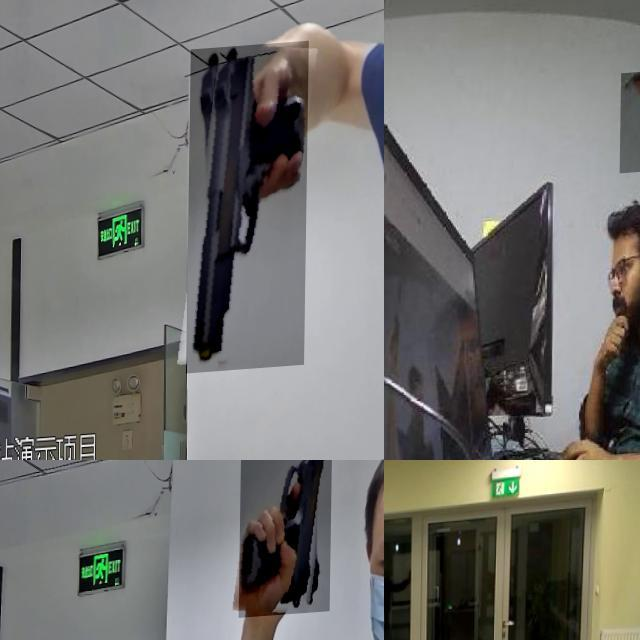gun-knife-thesis - v11 Yolov5 augmented: (188, 46, 309, 378), (240, 460, 333, 622), (384, 593, 398, 640)
